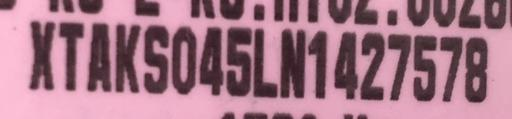letter: (142, 23, 170, 98), (57, 20, 85, 93), (86, 21, 114, 94), (224, 25, 252, 98), (198, 26, 226, 99), (332, 29, 360, 102), (358, 29, 386, 102), (28, 20, 56, 91), (114, 22, 142, 93), (170, 25, 198, 96), (251, 27, 279, 98), (278, 27, 306, 98), (386, 30, 412, 103), (412, 33, 438, 102), (463, 34, 489, 103), (438, 35, 464, 104), (306, 28, 328, 101)
